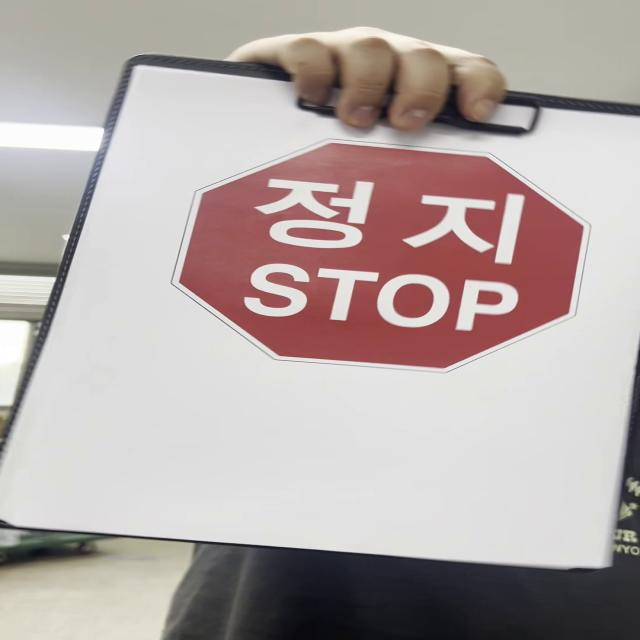stop: (170, 139, 591, 376)
